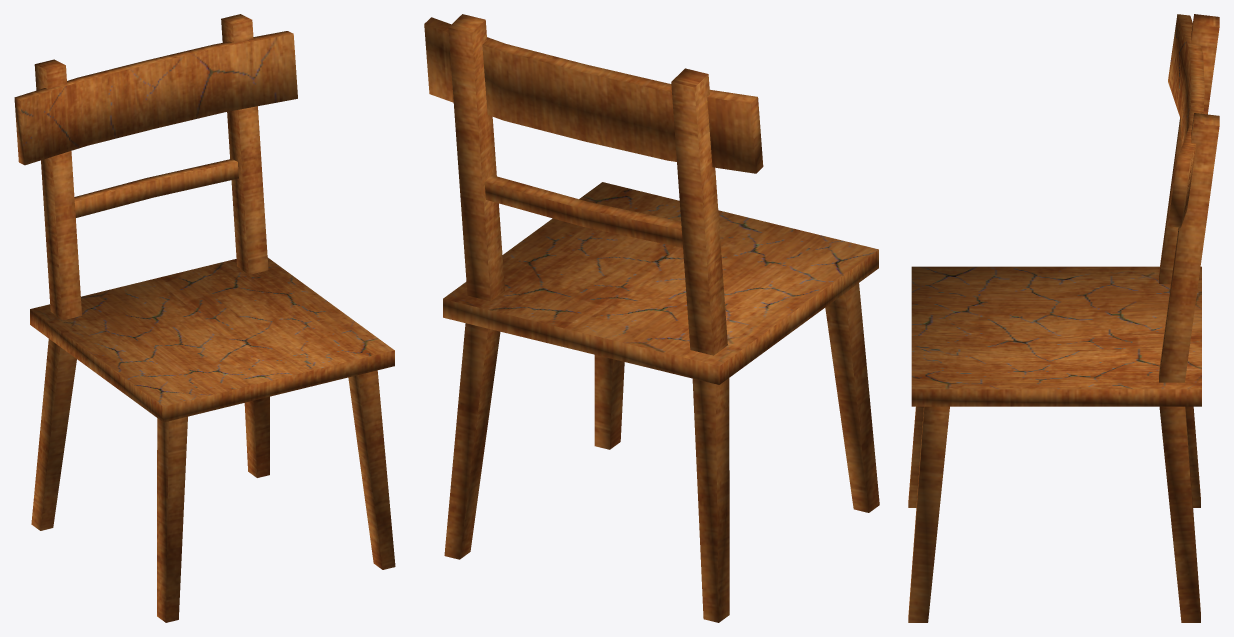
The model's file is chair_1.FBX.
3 renders of one model, left to right at view 1: azimuth 30°, elevation 25°; view 2: azimuth 150°, elevation 25°; view 3: azimuth 270°, elevation 25°, orthographic. The views are drawn at different scales.
Visible parts, largest first — view 1: Cube_097; view 2: Cube_097; view 3: Cube_097.
Boxes of the visible parts, left/top/right/bottom form: Cube_097: left=14, top=14, right=395, bottom=622; Cube_097: left=424, top=14, right=879, bottom=622; Cube_097: left=908, top=14, right=1219, bottom=622.
Bounding box in the file's own units: 3.7 × 5.87 × 3.35.
1 material, 1 textured.
